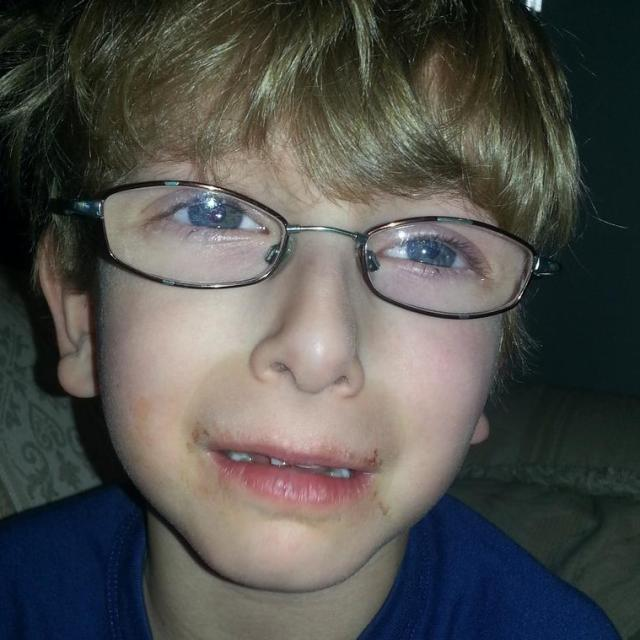Depress: (88, 71, 540, 594)
